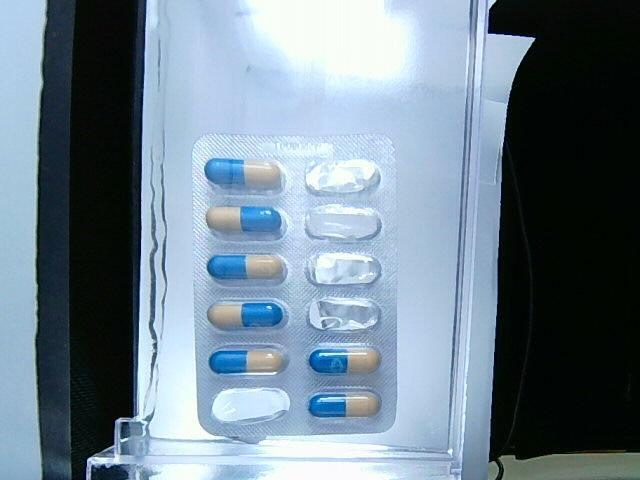Light Front: (189, 134, 401, 439)
No Pill Front: (213, 388, 290, 424), (305, 204, 381, 240), (306, 159, 379, 194), (305, 253, 381, 285), (309, 298, 380, 331)
Pill Front: (204, 158, 285, 193), (205, 205, 285, 240), (208, 254, 288, 285), (206, 300, 287, 330), (309, 388, 381, 418), (309, 348, 380, 376), (209, 349, 285, 374)
